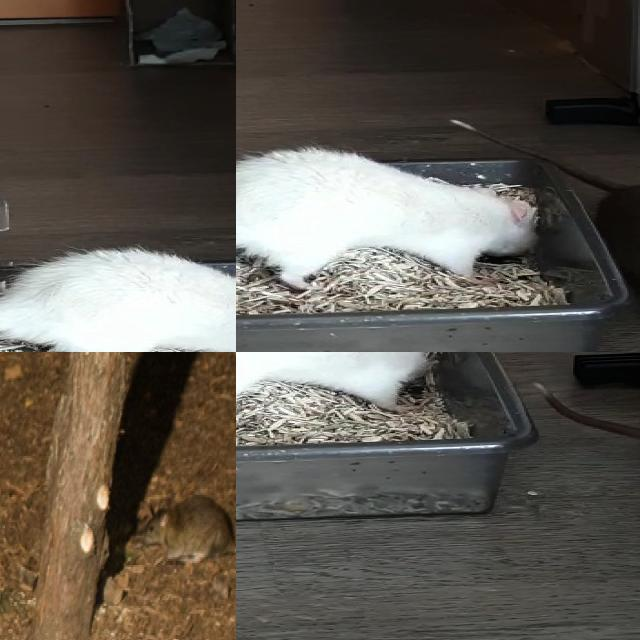rat: (236, 152, 532, 287), (0, 249, 236, 352), (236, 352, 436, 418), (594, 183, 640, 345), (144, 499, 235, 565)
